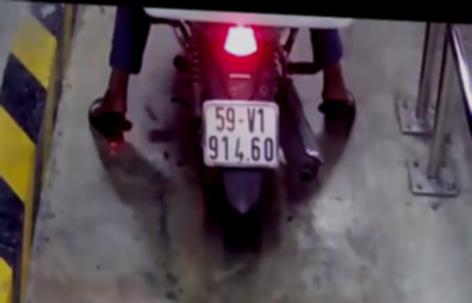License_Plate: (196, 95, 287, 173)
